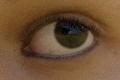eye: (54, 19, 87, 48)
